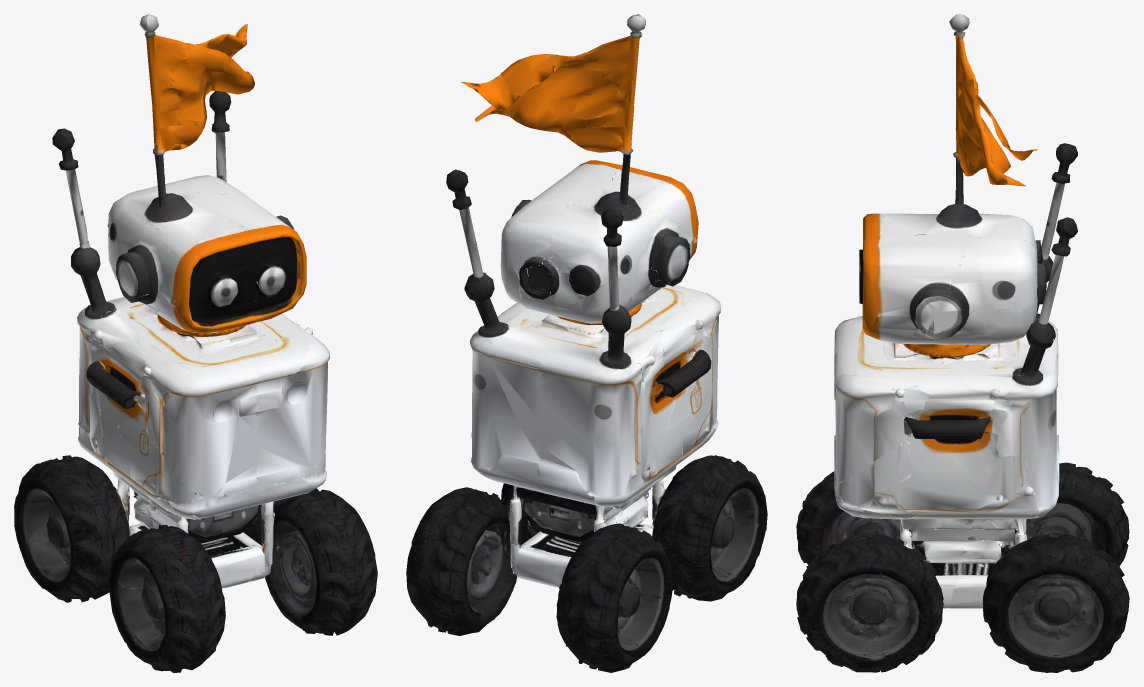
File: bot.glb
3 renders of one model, left to right at view 1: azimuth 30°, elevation 25°; view 2: azimuth 150°, elevation 25°; view 3: azimuth 270°, elevation 25°, orthographic. The views are drawn at different scales.
Visible parts, largest first — view 1: Mesh_0; view 2: Mesh_0; view 3: Mesh_0.
Part boxes in pixels (x1,y1,x2,y2): Mesh_0: [14, 14, 377, 672]; Mesh_0: [406, 14, 767, 672]; Mesh_0: [796, 14, 1129, 672].
Size of the model in its own units: 0.6821 by 1.9 by 0.9649.
Materials: 1 (1 with a texture image).
